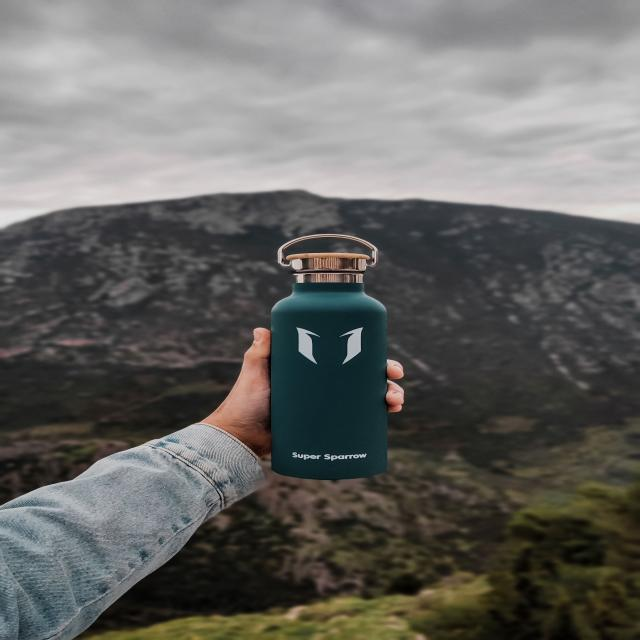Bottle: (271, 235, 387, 479)
